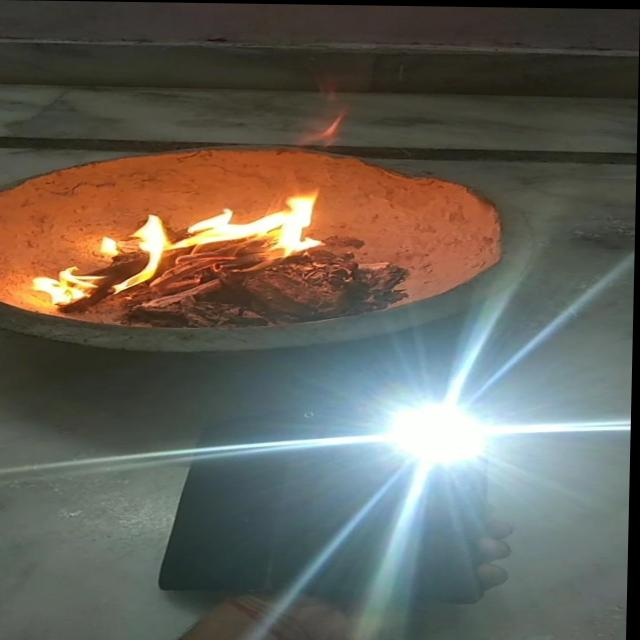fire: (96, 182, 333, 275), (25, 264, 101, 312)
